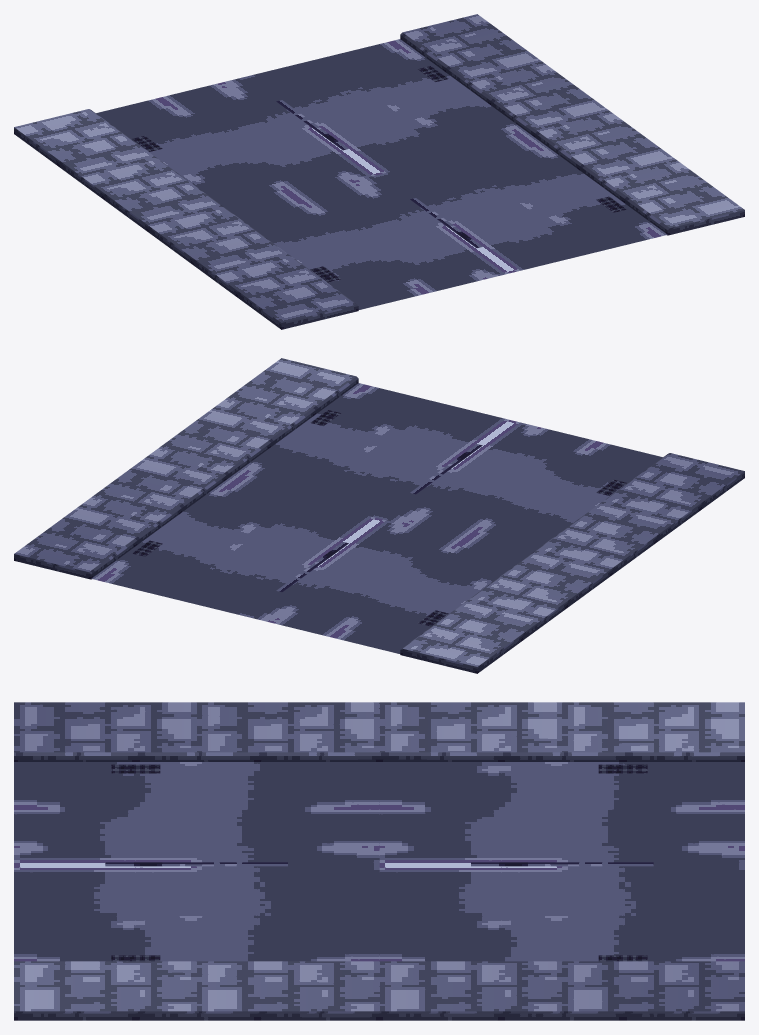
Rendered from cystreet.road__long.glb.
3 views of the same model, one above another, from view 1: azimuth 30°, elevation 25°; view 2: azimuth 150°, elevation 25°; view 3: azimuth 270°, elevation 25° (orthographic). The views are drawn at different scales.
Parts seen in each view (by area): view 1: kit_shell_road, kit_walks, kit_card_paint; view 2: kit_shell_road, kit_walks, kit_card_paint; view 3: kit_shell_road, kit_walks, kit_card_paint.
Part boxes in pixels (x1,y1,x2,y2): kit_shell_road: (96,39,667,309); kit_walks: (14,14,744,329); kit_card_paint: (132,66,626,282); kit_shell_road: (91,383,662,653); kit_walks: (14,358,744,673); kit_card_paint: (132,410,626,626); kit_shell_road: (14,762,744,961); kit_walks: (14,702,744,1020); kit_card_paint: (105,764,653,961).
Size of the model in its own units: 12 by 0.17 by 12.
Materials: 5 (5 with a texture image).
